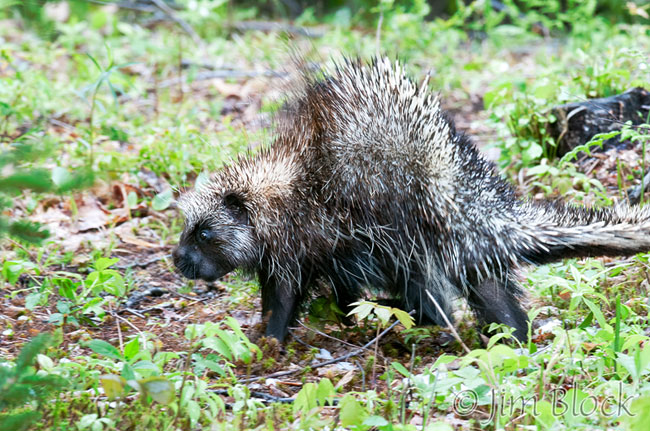porcupine: (163, 50, 650, 363)
